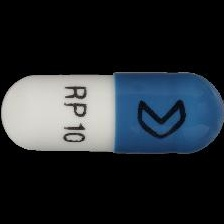21695-823: (0, 0, 224, 224)
